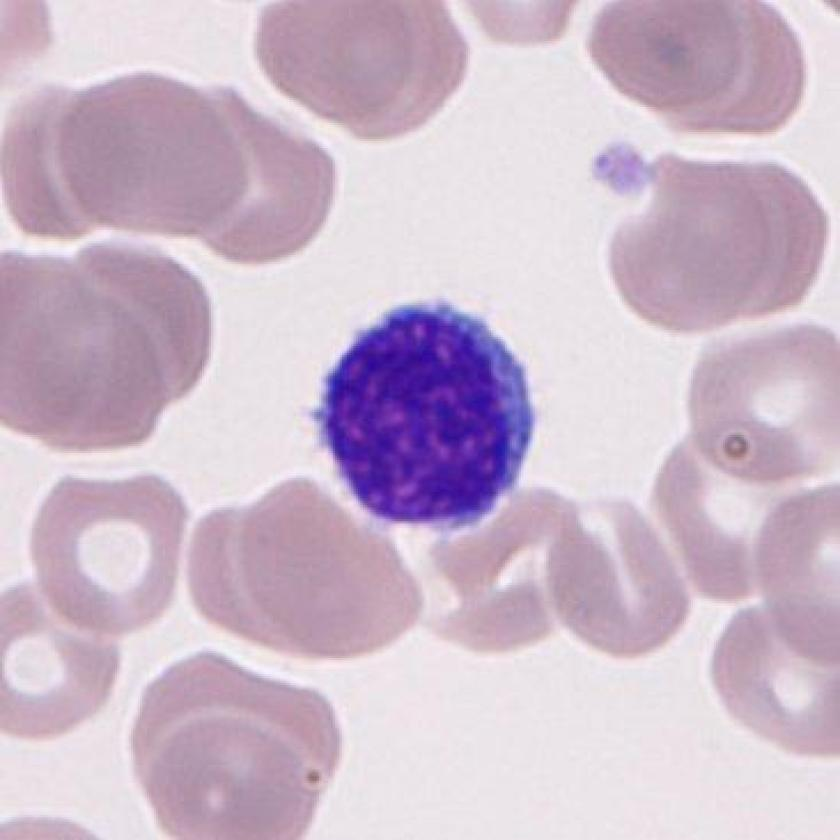lymphocyte: (302, 286, 550, 557)
